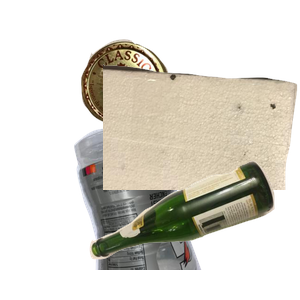glass: (87, 158, 300, 300)
metal: (78, 37, 243, 163)
plastic: (71, 120, 265, 300)
trash: (103, 62, 300, 242)
